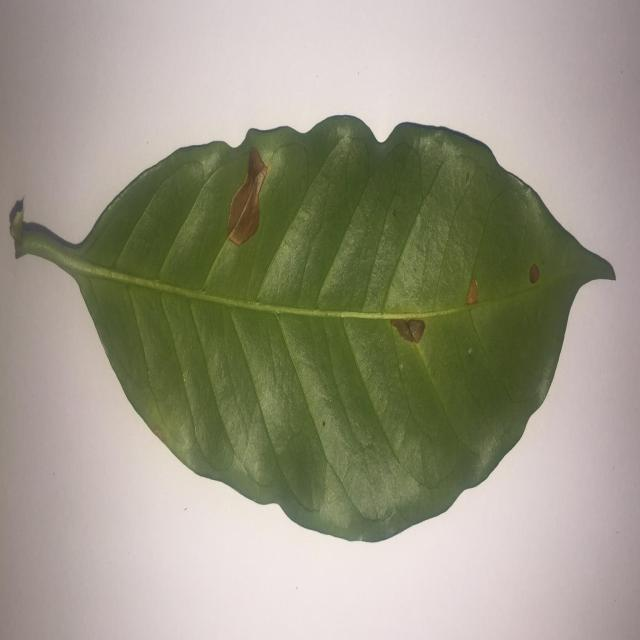Plaga-Minador: (10, 116, 617, 546)
